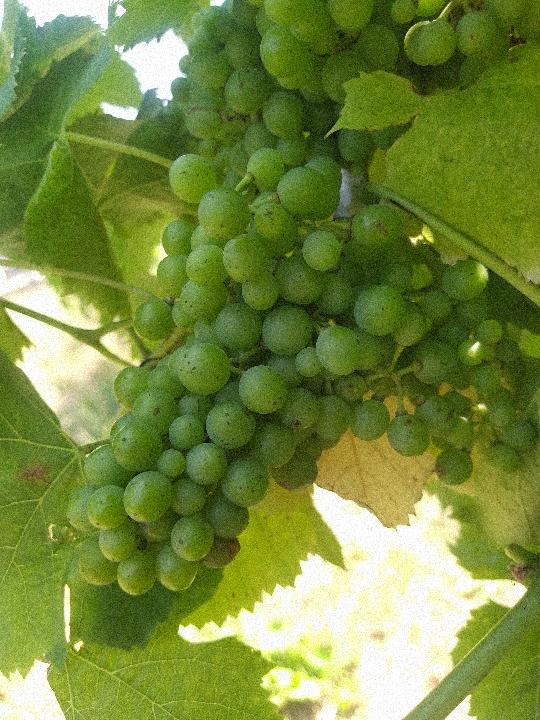grape: (65, 144, 533, 595)
